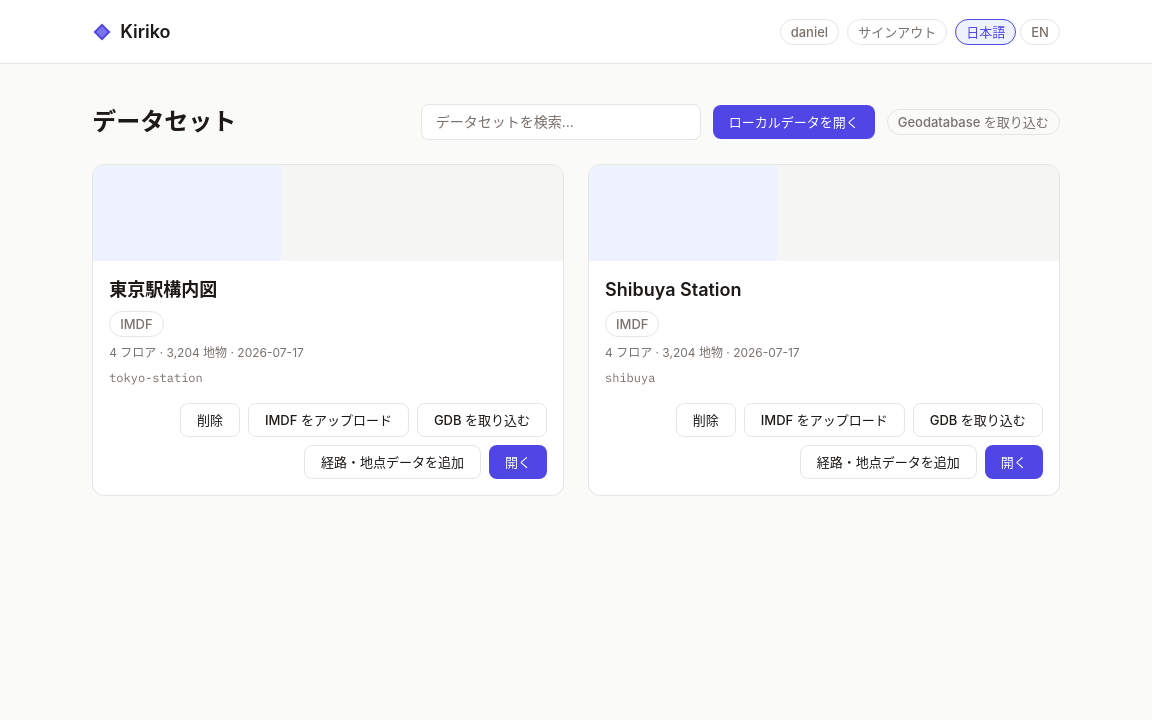
Test: GalleryPage › filters cards by name
The width and height of the screenshot is (1152, 720).
Expected: the heading "Shibuya Station" is shown, [605,279,742,300]
Type "shibuya" into the search field at (561, 122), box [434,111,688,133]
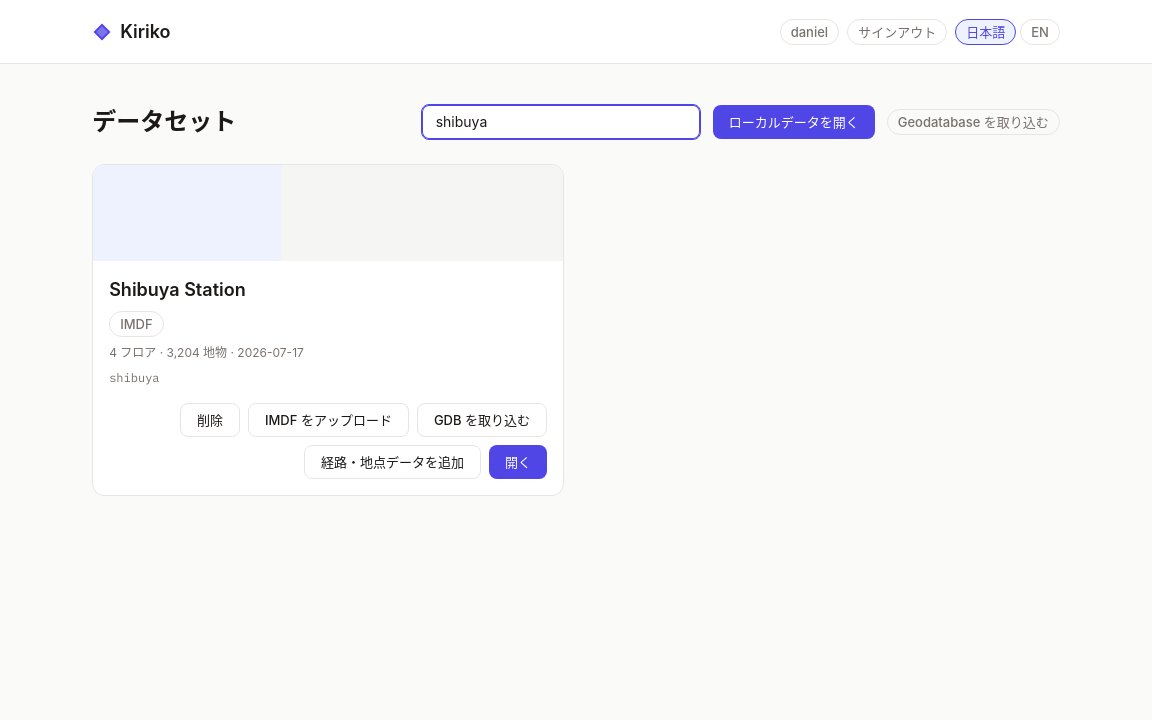
Expected: the heading "Shibuya Station" is shown, [109,279,246,300]
Expected: the heading "東京駅構内図" is gone
